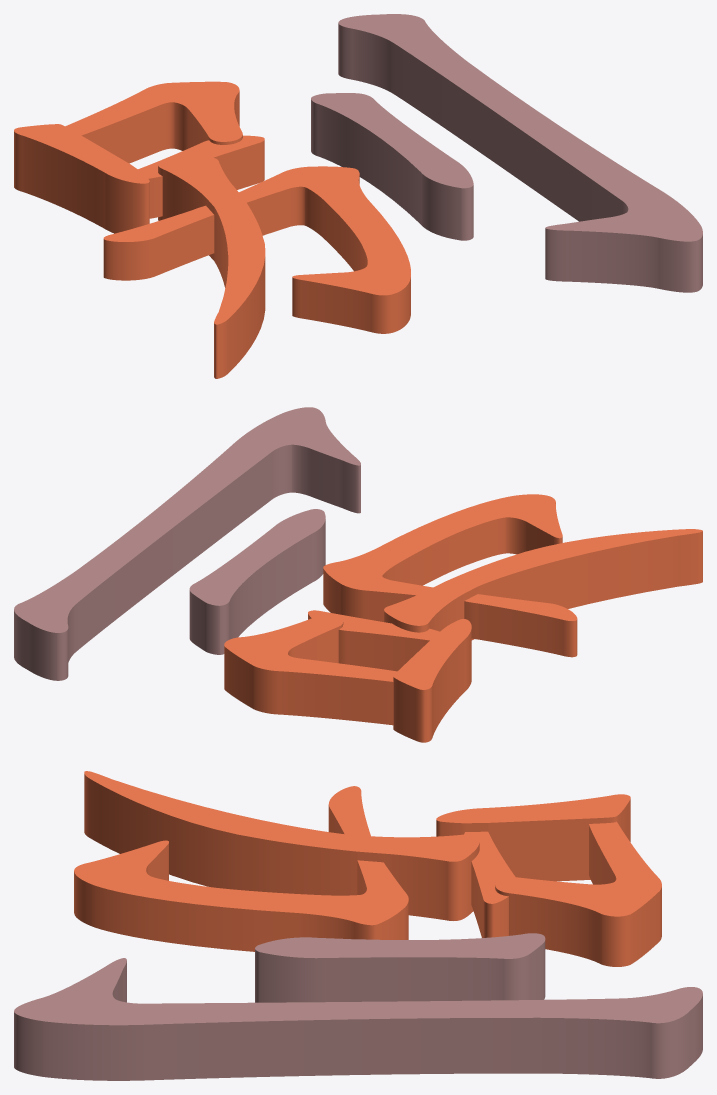
The model's file is hanzi57.fbx.
The picture shows the model from 3 angles, top to bottom: view 1: azimuth 30°, elevation 25°; view 2: azimuth 150°, elevation 25°; view 3: azimuth 270°, elevation 25°; orthographic projection. The views are drawn at different scales.
Parts seen in each view (by area): view 1: Curve.006, Curve.003, Curve.005, Curve.004, Curve, Curve.001, Curve.002; view 2: Curve.006, Curve.003, Curve.004, Curve.001, Curve.005, Curve, Curve.002; view 3: Curve.006, Curve.004, Curve.003, Curve.005, Curve.001, Curve, Curve.002.
Boxes of the visible parts, x1,y1,x2,y2 form: Curve.006: (338,14,702,292); Curve.003: (103,166,410,333); Curve.005: (311,93,473,240); Curve.004: (158,157,265,378); Curve: (14,124,149,233); Curve.001: (65,81,242,163); Curve.002: (138,135,264,218); Curve.006: (14,407,360,680); Curve.003: (323,494,577,657); Curve.004: (384,529,702,640); Curve.001: (224,615,396,725); Curve.005: (189,509,325,654); Curve: (393,619,471,742); Curve.002: (308,610,439,671); Curve.006: (14,958,702,1080); Curve.004: (84,771,479,920); Curve.003: (74,786,408,951); Curve.005: (255,933,545,1002); Curve.001: (495,821,661,966); Curve: (436,794,630,881); Curve.002: (464,831,515,937).
Bounding box in the file's own units: 21.1 × 24.35 × 2.39.
